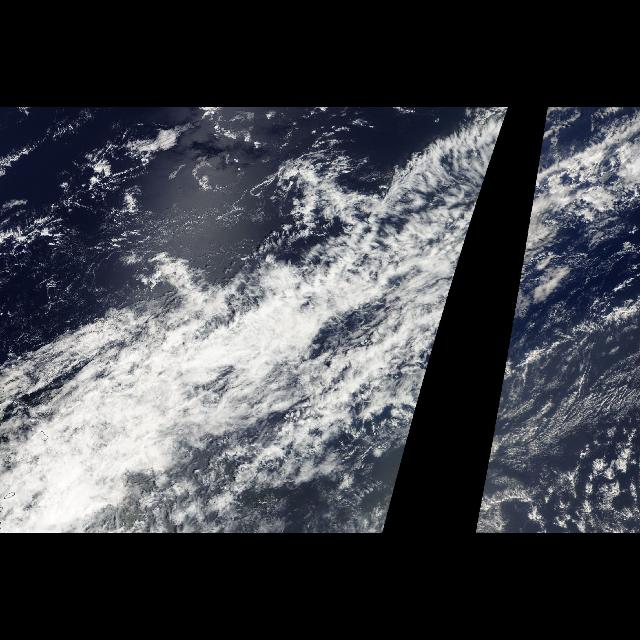Sugar: (483, 311, 639, 527)
